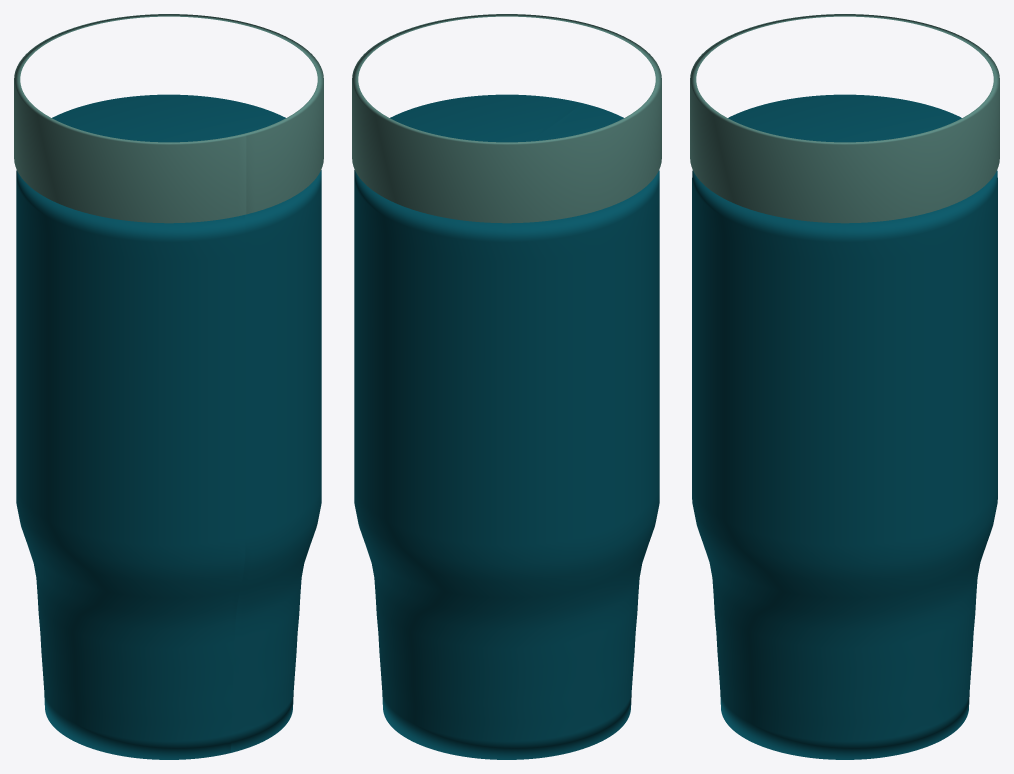
File: stanley-iceflow-30-bodyfit-v5.glb
3 views of the same model, side by side, from view 1: azimuth 30°, elevation 25°; view 2: azimuth 150°, elevation 25°; view 3: azimuth 270°, elevation 25° (orthographic).
Visible parts, largest first — view 1: body_mesh, rim_mesh; view 2: body_mesh, rim_mesh; view 3: body_mesh, rim_mesh.
Boxes of the visible parts, left/top/right/bottom form: body_mesh: left=16, top=94, right=321, bottom=759; rim_mesh: left=14, top=14, right=323, bottom=223; body_mesh: left=354, top=94, right=659, bottom=759; rim_mesh: left=352, top=14, right=661, bottom=223; body_mesh: left=692, top=94, right=997, bottom=759; rim_mesh: left=690, top=14, right=999, bottom=223.
Size of the model in its own units: 81.8 by 183 by 81.8.
